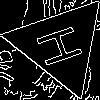H: (35, 20, 94, 70)
